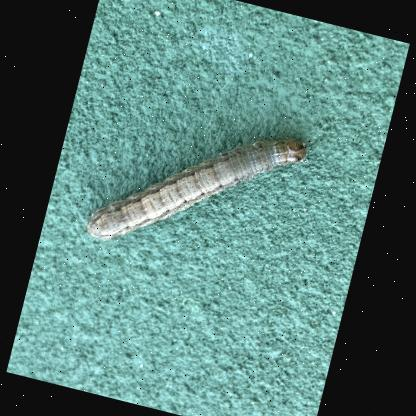Fall Armyworm Larvae: (81, 93, 312, 286)
